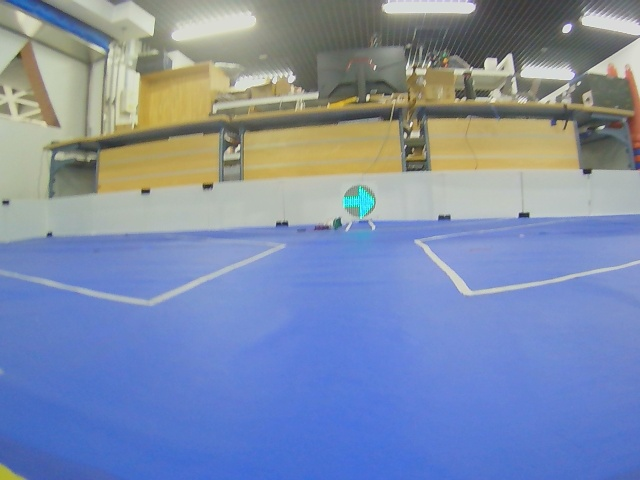right_green: (343, 185, 376, 219)
